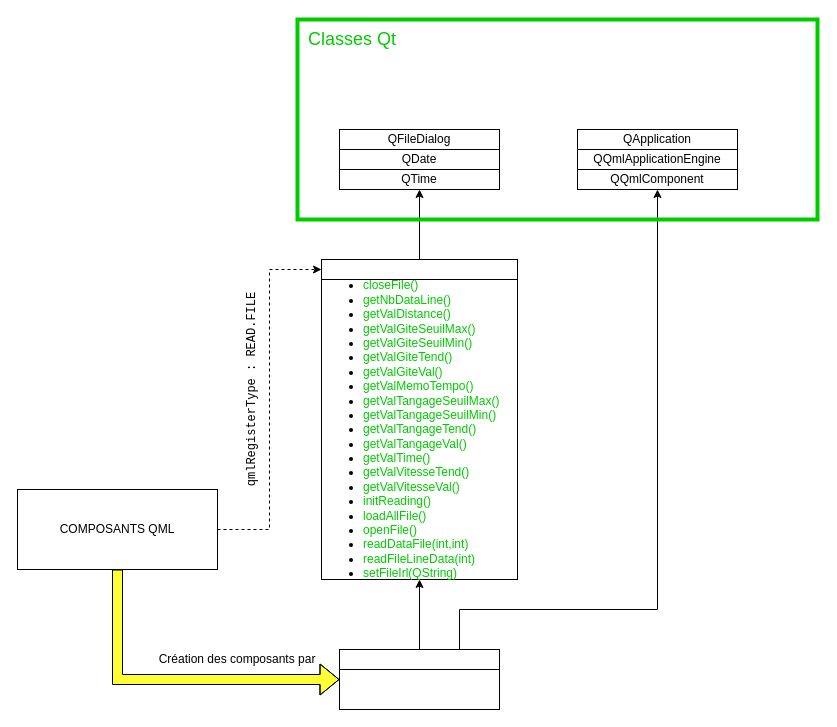
Image size: 837x727. Some labels were removed from this diagram. The centre of each missing label's shape, as x and y in pixels:
"main" belongs at (419,659).
"readfile" belongs at (419,269).
